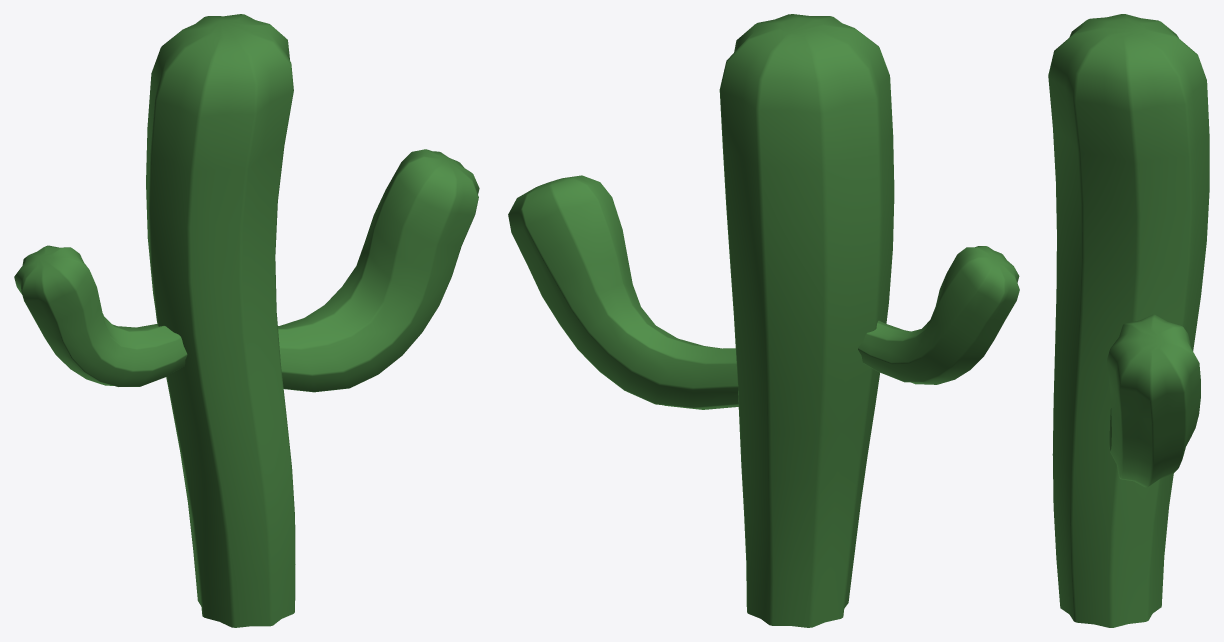
Rendered from Cactus.fbx.
3 views of the same model, side by side, from view 1: azimuth 30°, elevation 25°; view 2: azimuth 150°, elevation 25°; view 3: azimuth 270°, elevation 25° (orthographic). The views are drawn at different scales.
Parts seen in each view (by area): view 1: Cylinder; view 2: Cylinder; view 3: Cylinder.
Boxes of the visible parts, x1,y1,x2,y2 form: Cylinder: (14, 14, 479, 627); Cylinder: (508, 14, 1019, 627); Cylinder: (1048, 14, 1209, 627).
Size of the model in its own units: 1.29 by 0.3817 by 1.5.
